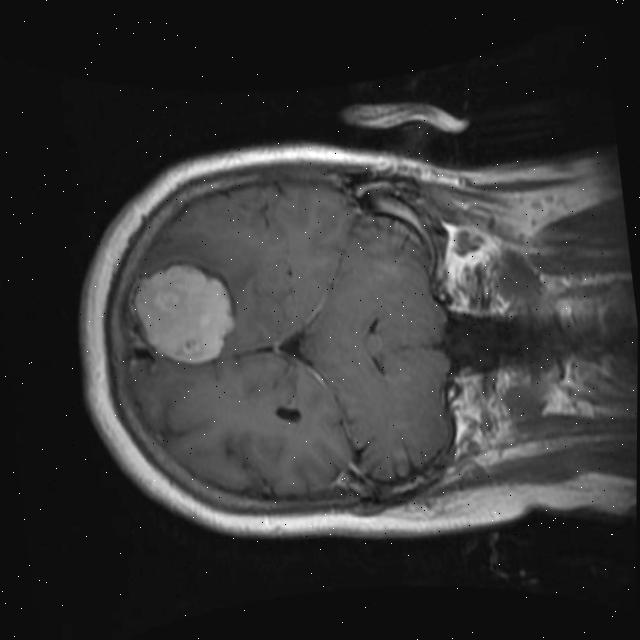Meningioma: (123, 252, 245, 374)
